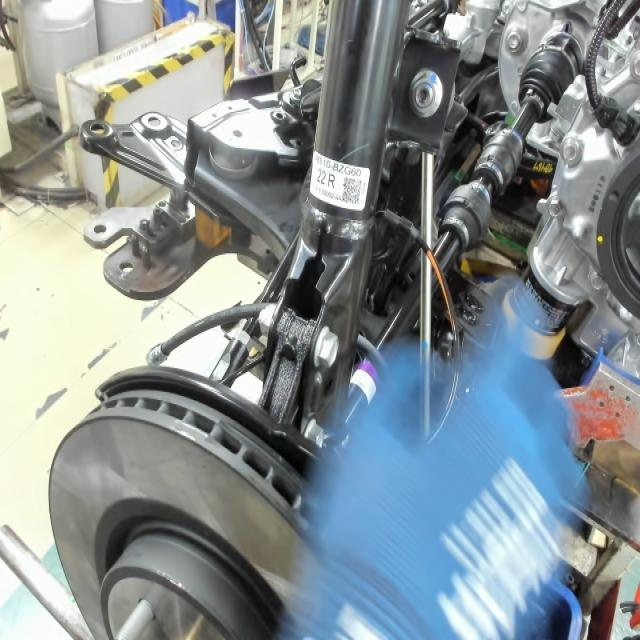Absorber RH-22: (312, 165, 365, 205)
Disc-HT: (83, 494, 312, 640)
Drive Shaft-UG: (348, 357, 389, 409)
